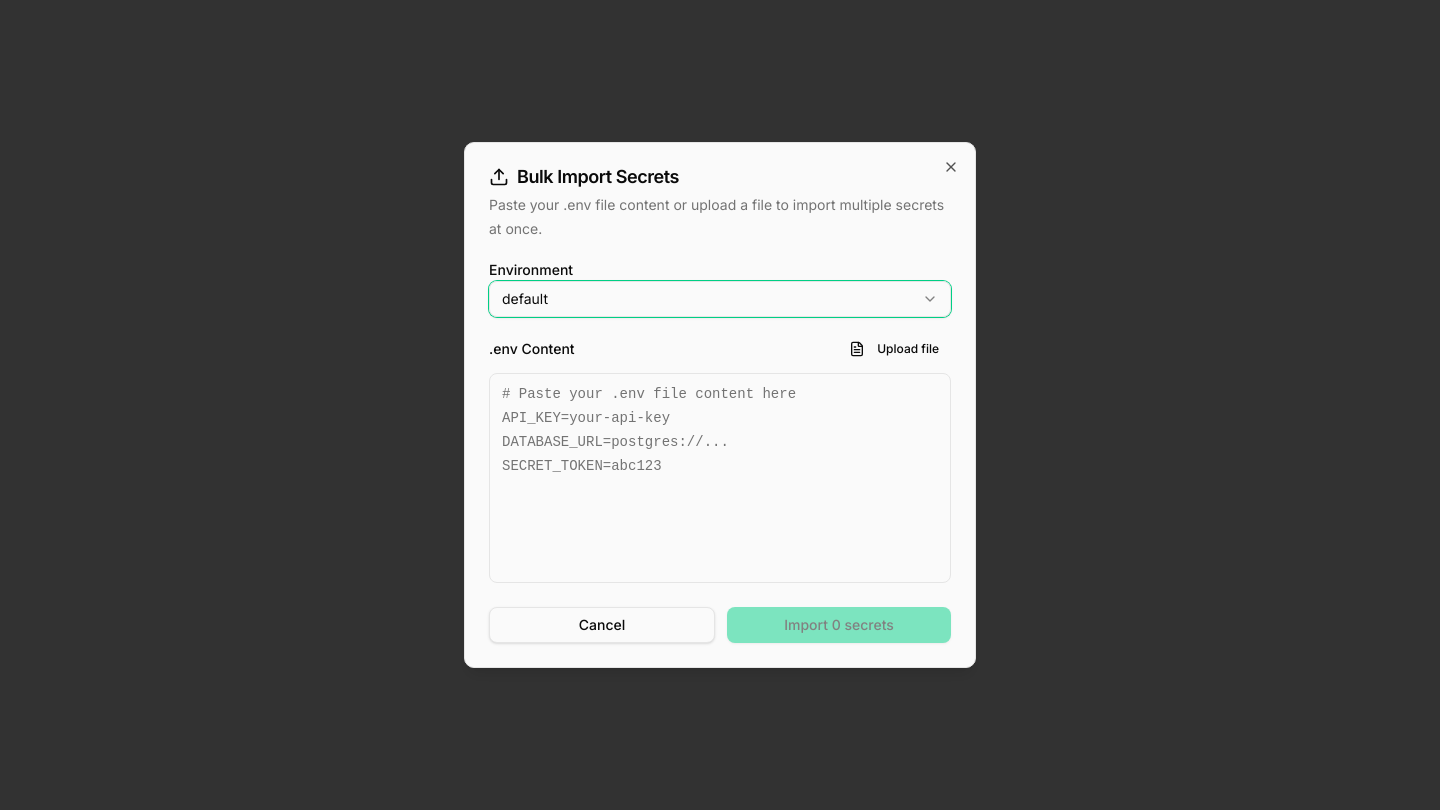
Test: BulkImportModal › environment selection › should allow changing environment
The image size is (1440, 810).
Step 1. Click the dropdown → coordinates (525, 298), box [489, 281, 951, 317]
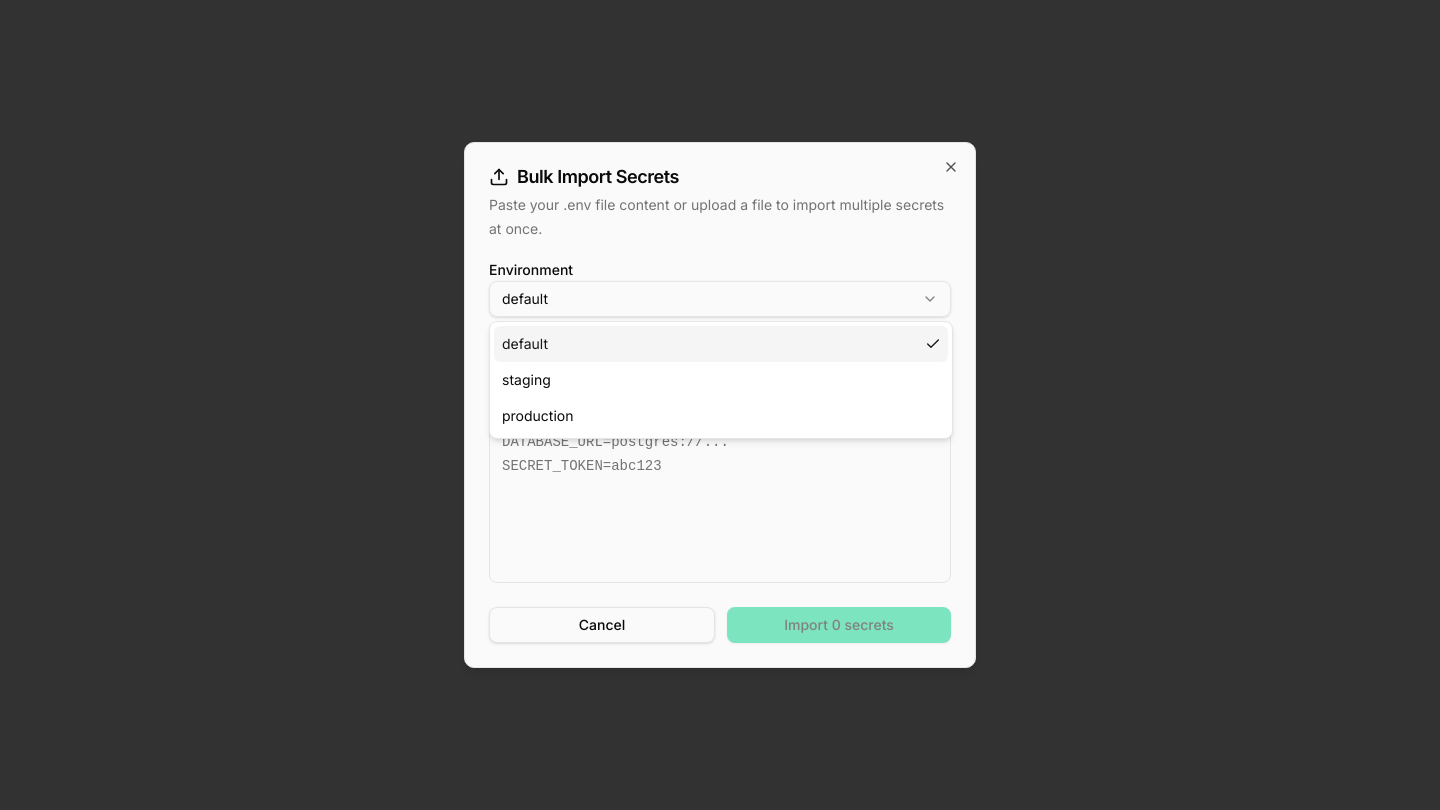
Step 2. Click the option "staging" → coordinates (526, 380), box [502, 371, 551, 388]
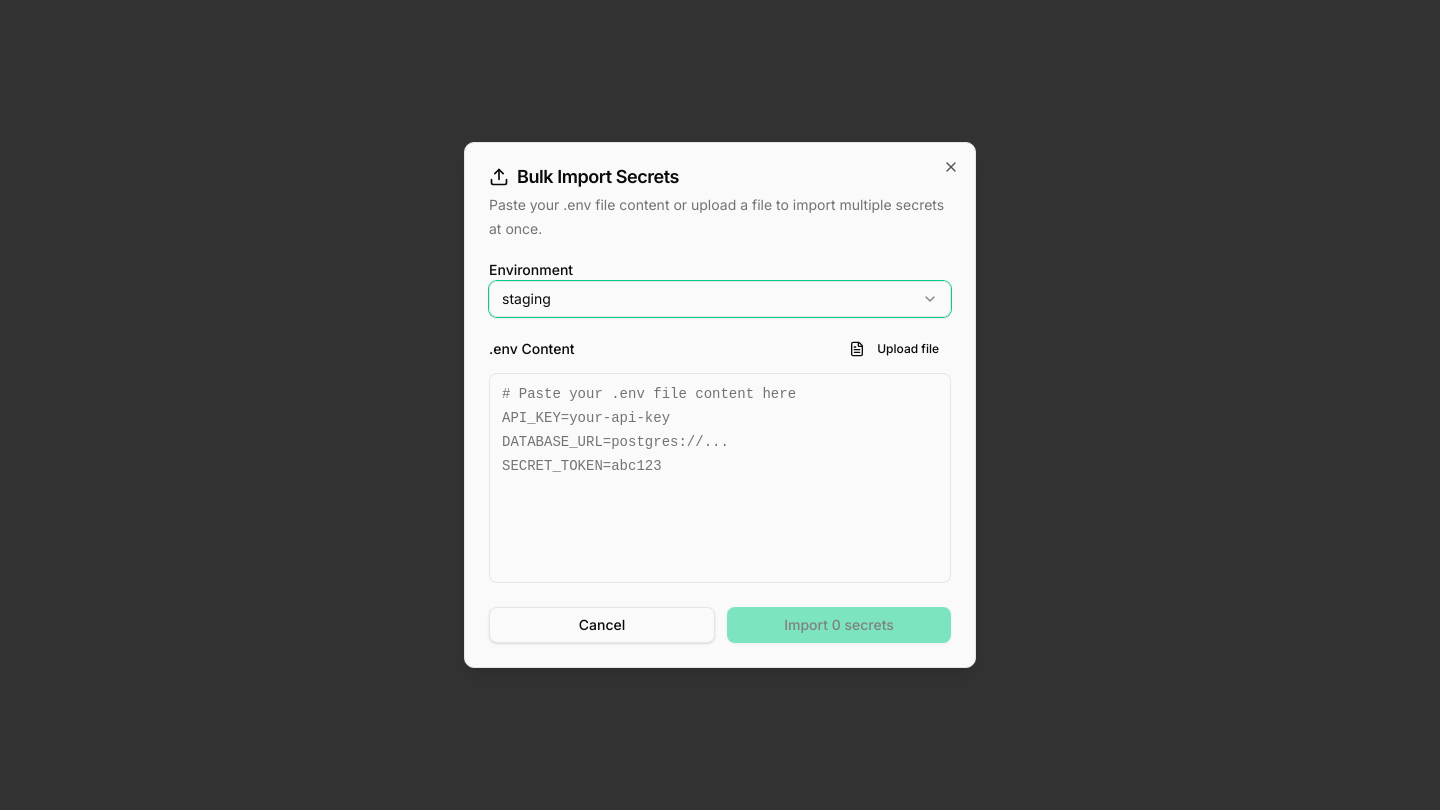
Now the dropdown reads "staging", box [489, 281, 951, 317]
